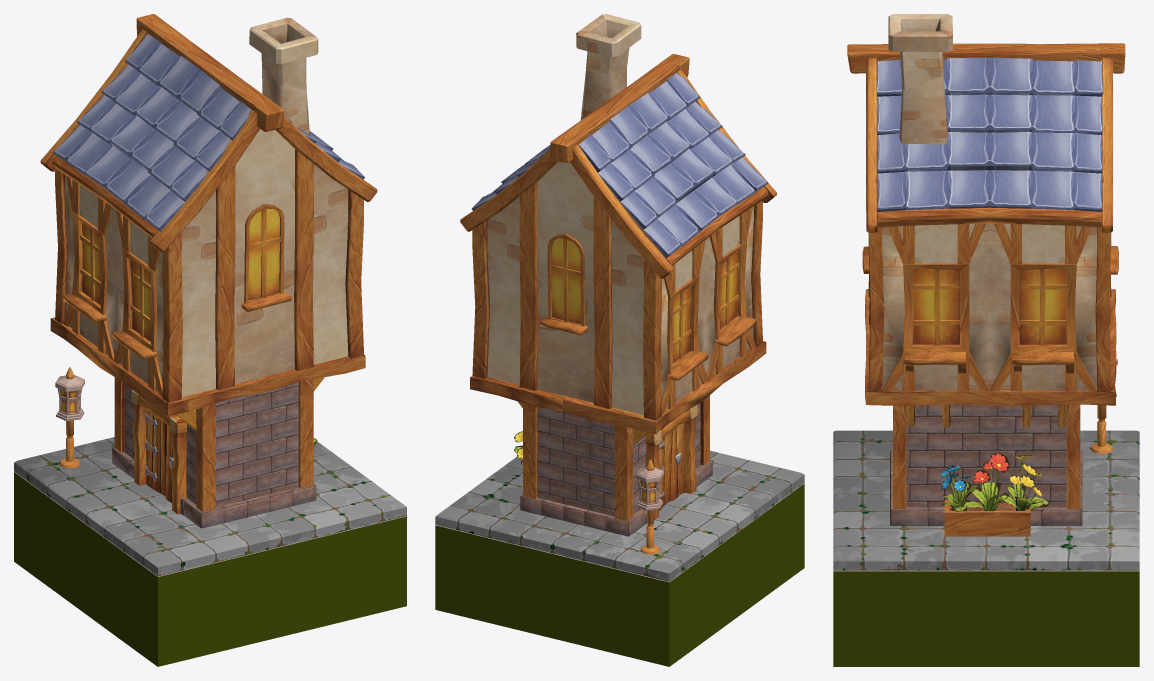
Rendered from med_house_01.fbx.
The picture shows the model from 3 angles, left to right: view 1: azimuth 30°, elevation 25°; view 2: azimuth 150°, elevation 25°; view 3: azimuth 270°, elevation 25°; orthographic projection. The views are drawn at different scales.
Visible parts, largest first — view 1: House_01_Mesh, med_house_01; view 2: House_01_Mesh, med_house_01; view 3: House_01_Mesh, med_house_01.
Part boxes in pixels (x1,y1,x2,y2): House_01_Mesh: [14, 14, 406, 576]; med_house_01: [14, 472, 406, 666]; House_01_Mesh: [435, 14, 804, 581]; med_house_01: [435, 483, 804, 666]; House_01_Mesh: [833, 14, 1139, 570]; med_house_01: [833, 570, 1139, 666].
Bounding box in the file's own units: 100 × 216 × 100.
